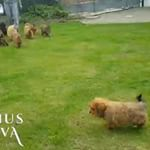puppy: (84, 93, 150, 132)
